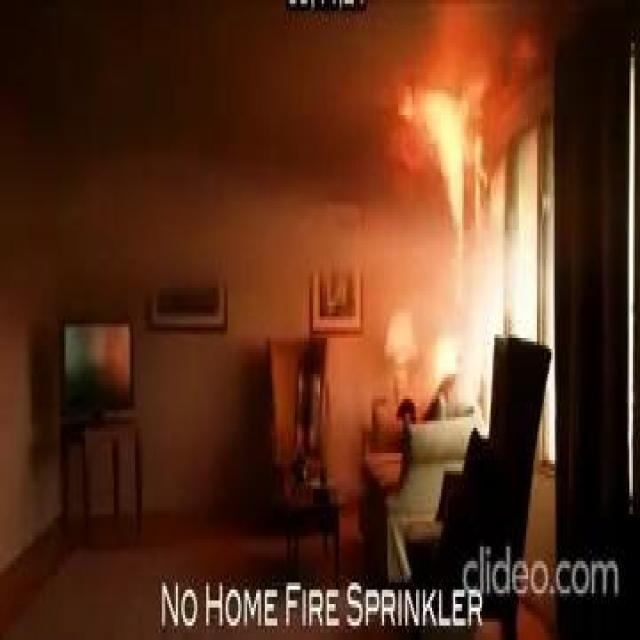fire: (381, 37, 530, 432)
